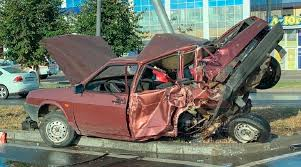car: (31, 31, 263, 147)
